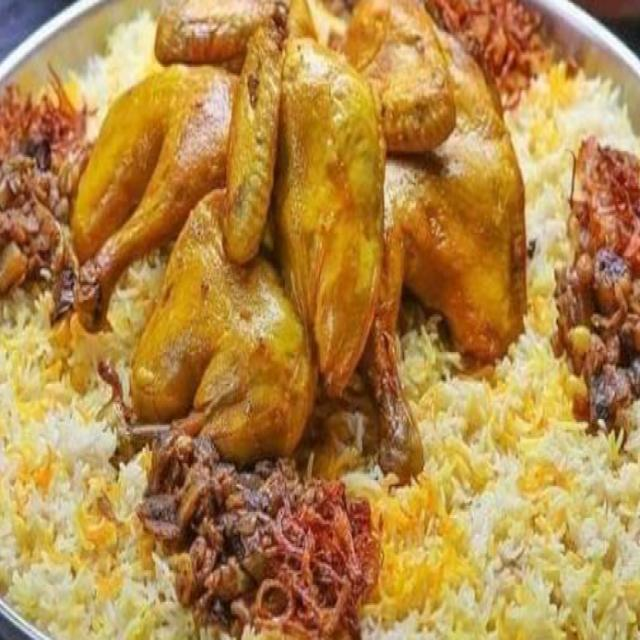Machboos: (6, 4, 640, 635)
